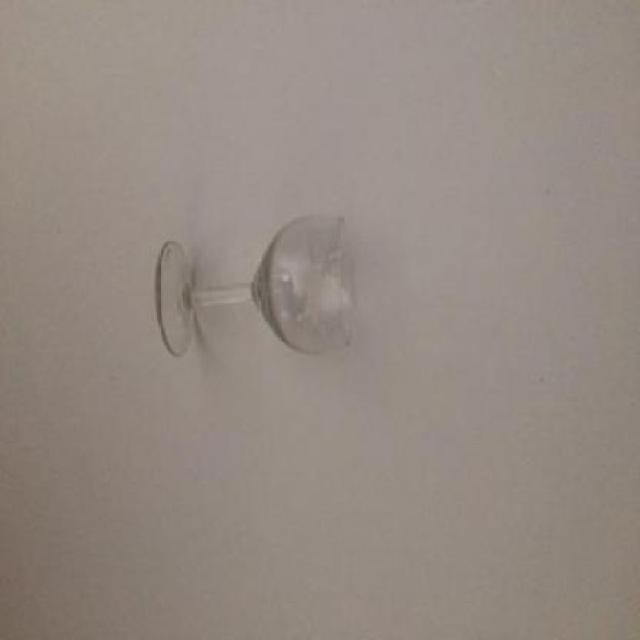kaca: (152, 211, 351, 355)
